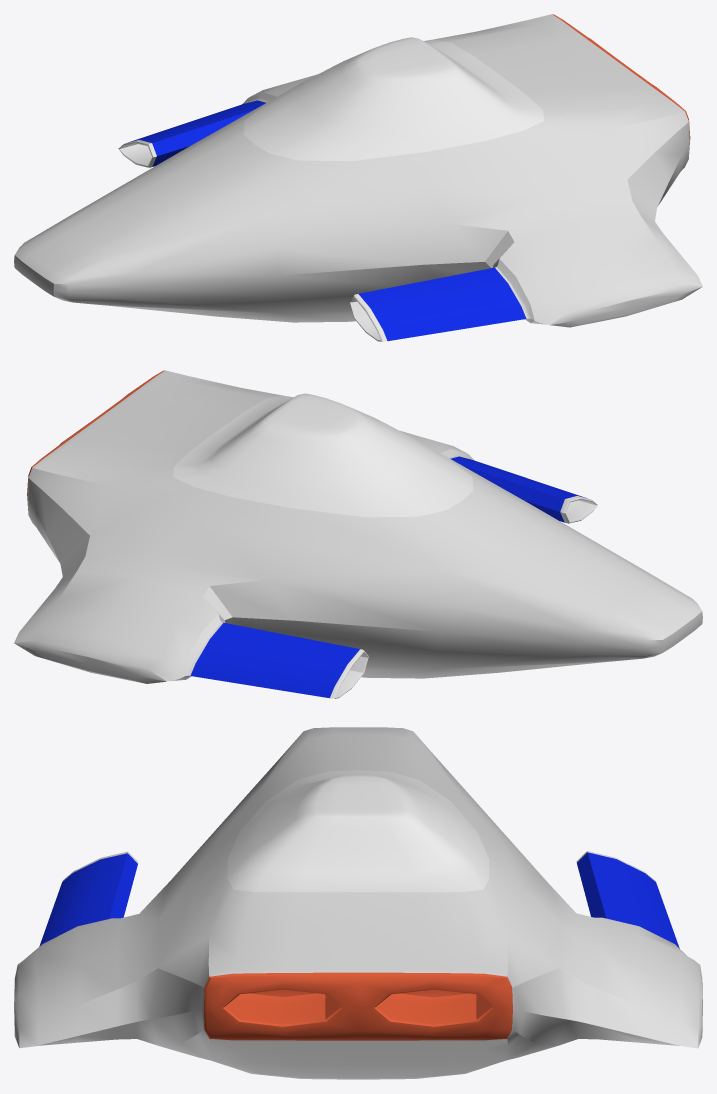
File: Midge.fbx
3 renders of one model, top to bottom at view 1: azimuth 30°, elevation 25°; view 2: azimuth 150°, elevation 25°; view 3: azimuth 270°, elevation 25°, orthographic. The views are drawn at different scales.
Visible parts, largest first — view 1: Cube; view 2: Cube; view 3: Cube.
Part boxes in pixels (box(x1,y1,x2,y2)): Cube: box(14, 14, 702, 341); Cube: box(14, 370, 702, 698); Cube: box(14, 727, 702, 1079).
Bounding box in the file's own units: 659 × 238 × 594.
